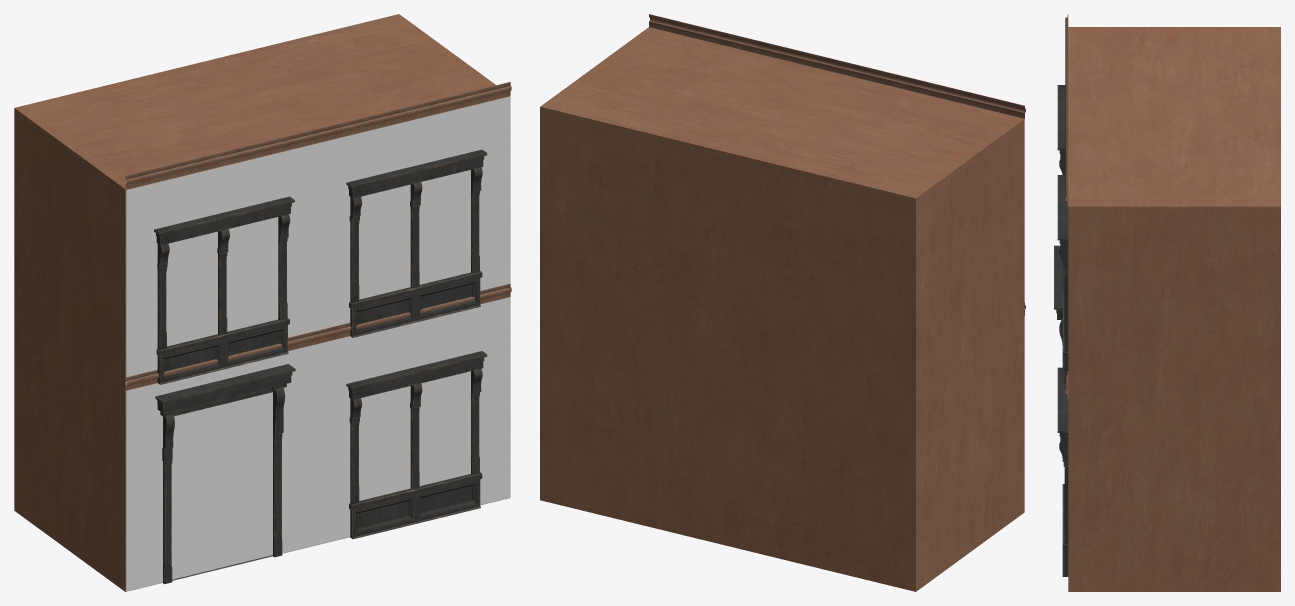
Rendered from urban-apartment.glb.
3 views of the same model, side by side, from view 1: azimuth 30°, elevation 25°; view 2: azimuth 150°, elevation 25°; view 3: azimuth 270°, elevation 25° (orthographic). The views are drawn at different scales.
Visible parts, largest first — view 1: COL_simple_building, rear_sides_and_roof, window_centered_large_01 (×3), cornice_standard_standard_01 (×4), door_centered_large_01; view 2: rear_sides_and_roof, cornice_standard_standard_01 (×2); view 3: rear_sides_and_roof, window_centered_large_01 (×3), cornice_standard_standard_01 (×2), door_centered_large_01.
Part boxes in pixels (left/top/right/bottom): COL_simple_building: left=126, top=96, right=509, bottom=591; rear_sides_and_roof: left=14, top=14, right=495, bottom=591; window_centered_large_01 (×3): left=154, top=149, right=487, bottom=539; cornice_standard_standard_01 (×4): left=125, top=82, right=511, bottom=390; door_centered_large_01: left=155, top=364, right=295, bottom=584; rear_sides_and_roof: left=540, top=27, right=1024, bottom=591; cornice_standard_standard_01 (×2): left=649, top=14, right=1025, bottom=118; rear_sides_and_roof: left=1068, top=27, right=1280, bottom=591; window_centered_large_01 (×3): left=1057, top=85, right=1068, bottom=576; cornice_standard_standard_01 (×2): left=1065, top=14, right=1068, bottom=206; door_centered_large_01: left=1054, top=245, right=1062, bottom=344.
Bounding box in the file's own units: 6 × 6.2 × 3.2.
Materials: 4 (3 with a texture image).
